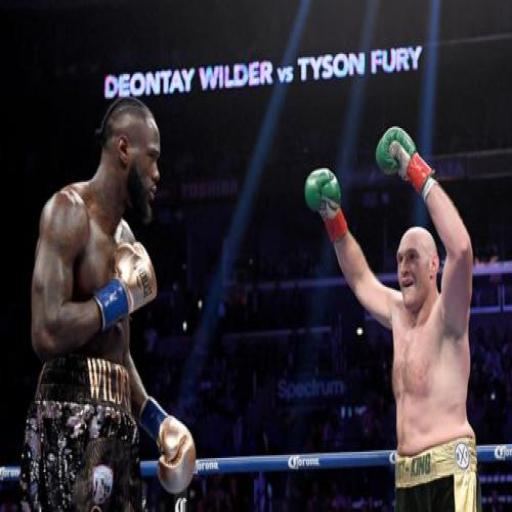boxing: (18, 94, 196, 511), (303, 123, 482, 509)
